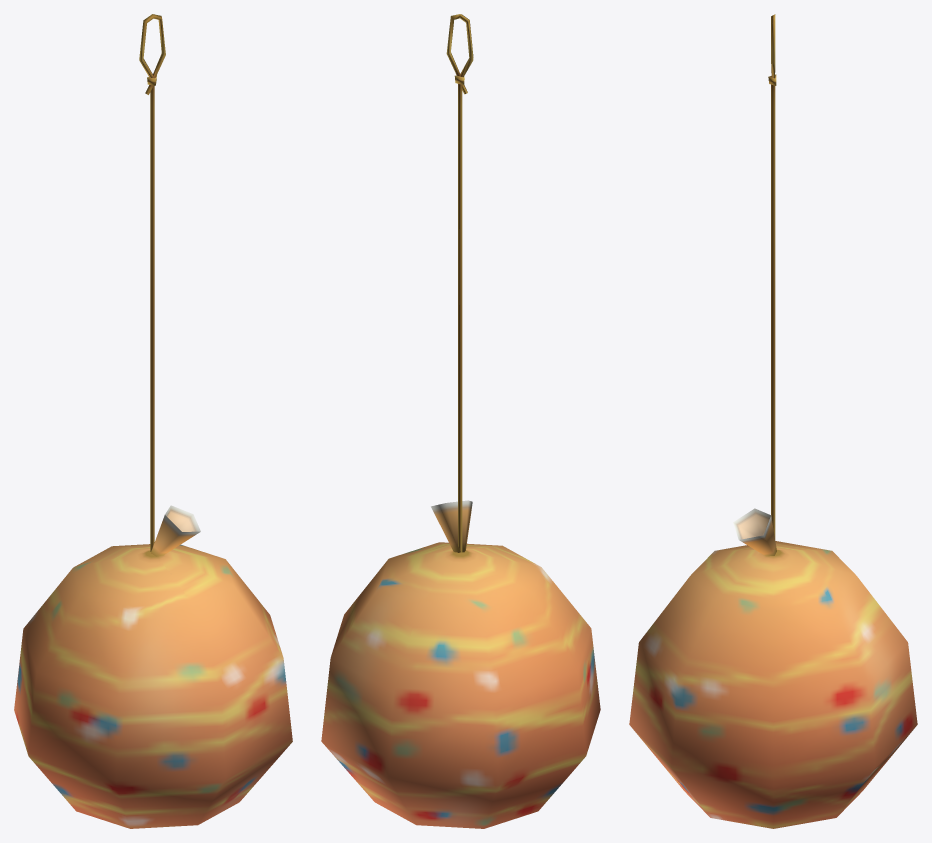
Rendered from jsf_WaterBalloon_01_a.fbx.
The picture shows the model from 3 angles, left to right: view 1: azimuth 30°, elevation 25°; view 2: azimuth 150°, elevation 25°; view 3: azimuth 270°, elevation 25°; orthographic projection.
Visible parts, largest first — view 1: jsf_WaterBalloon_01_a; view 2: jsf_WaterBalloon_01_a; view 3: jsf_WaterBalloon_01_a.
Part boxes in pixels (x1=…): jsf_WaterBalloon_01_a: x1=14, y1=14, x2=292, y2=828; jsf_WaterBalloon_01_a: x1=321, y1=14, x2=600, y2=828; jsf_WaterBalloon_01_a: x1=629, y1=14, x2=917, y2=828.
Size of the model in its own units: 10.92 by 33.54 by 10.92.
